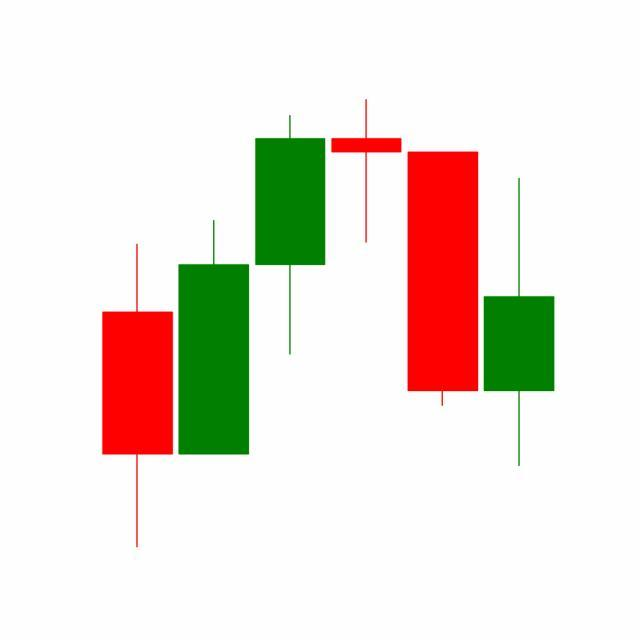Marubozu: (404, 149, 482, 409)
